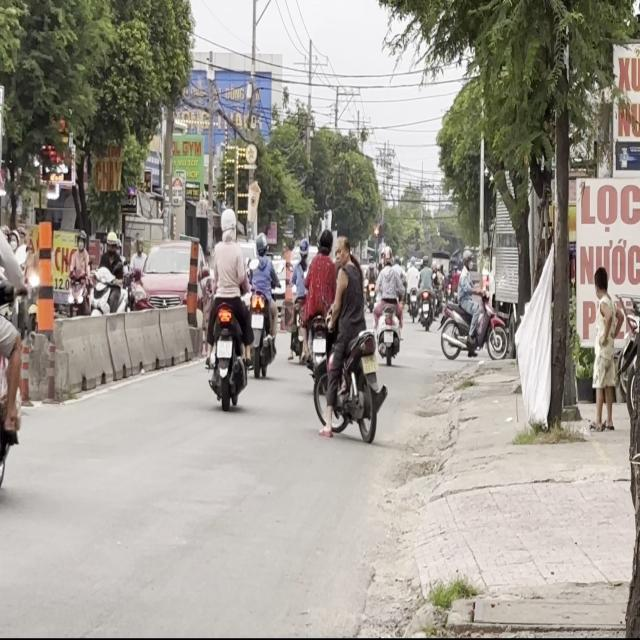helmet: (219, 206, 236, 240)
licenseplate: (321, 225, 384, 443), (202, 205, 250, 409)
motorcyclist: (333, 233, 352, 270)
nohelmet: (216, 340, 232, 358), (362, 355, 376, 372)
